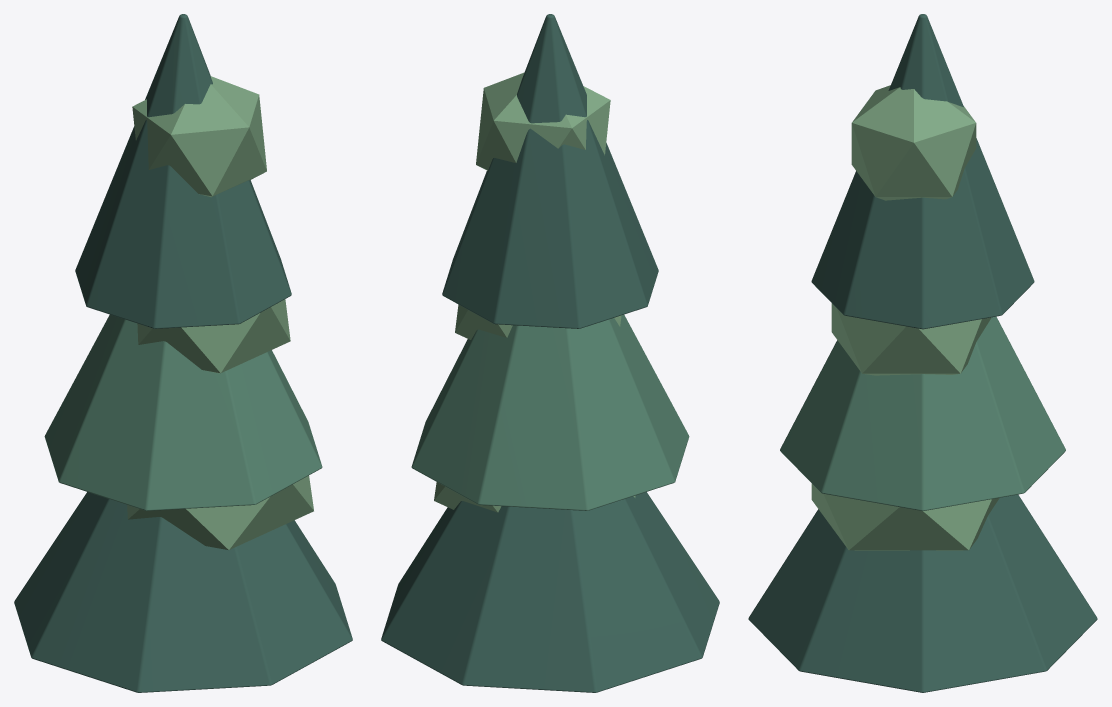
File: SM_Tree_Pine_Tall.fbx
3 views of the same model, side by side, from view 1: azimuth 30°, elevation 25°; view 2: azimuth 150°, elevation 25°; view 3: azimuth 270°, elevation 25° (orthographic).
Parts seen in each view (by area): view 1: SM_Tree_Pine_Tall; view 2: SM_Tree_Pine_Tall; view 3: SM_Tree_Pine_Tall.
Boxes of the visible parts, x1=… form: SM_Tree_Pine_Tall: x1=14, y1=14, x2=352, y2=692; SM_Tree_Pine_Tall: x1=381, y1=14, x2=719, y2=692; SM_Tree_Pine_Tall: x1=748, y1=14, x2=1097, y2=692.
Bounding box in the file's own units: 2.09 × 4.31 × 2.09.
